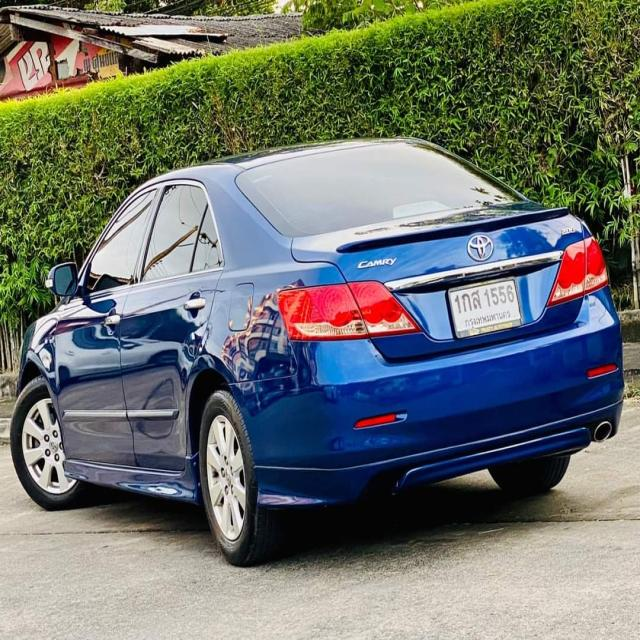license_plate: (443, 275, 527, 343)
